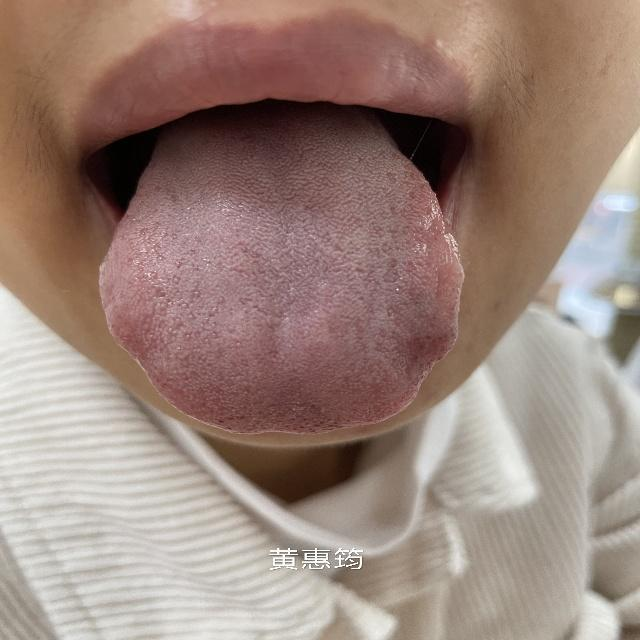baitaishe: (98, 150, 464, 436)
